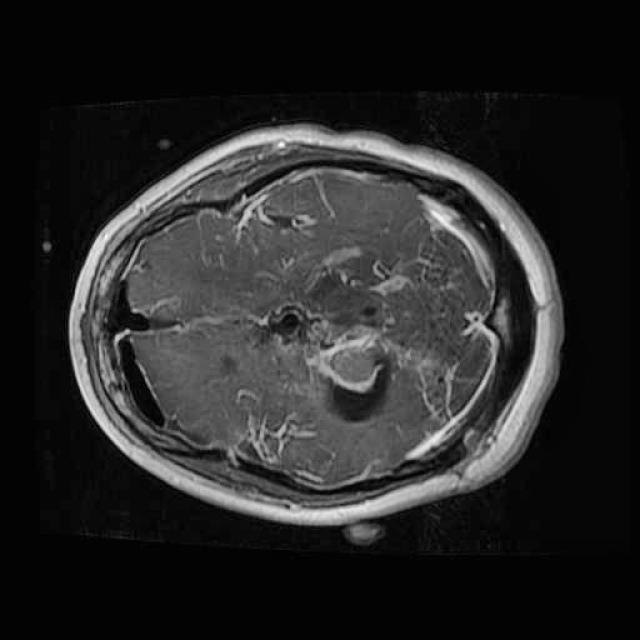Non-Tumor: (243, 244, 442, 434)
